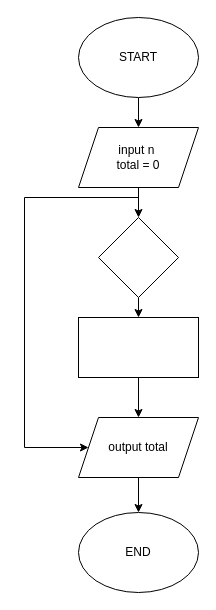
The diagram is 216 pixels wide and 610 high, and some of its shapes have lost their labels. The centre of each missing label's shape, as x and y in pixels:
i in str(n): point 138,257
total += int(i): point 138,347
